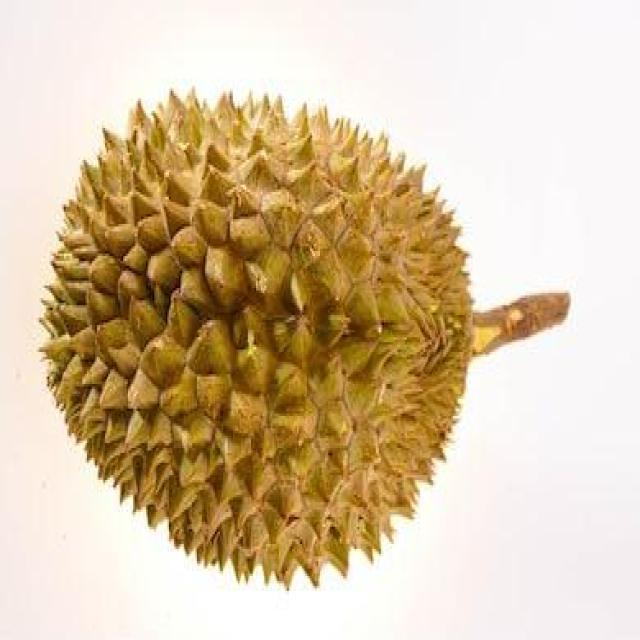mature: (42, 94, 472, 583)
